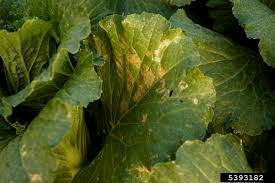Bok-Choy-Diseased: (82, 15, 220, 158)
